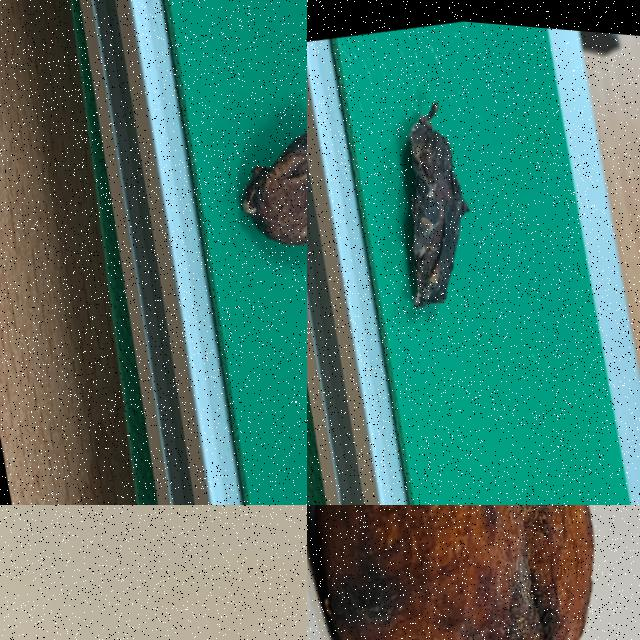Agglomerated_cocoabeans: (307, 505, 639, 639)
Flat_cocoabeans: (340, 33, 537, 410), (194, 37, 306, 327)
